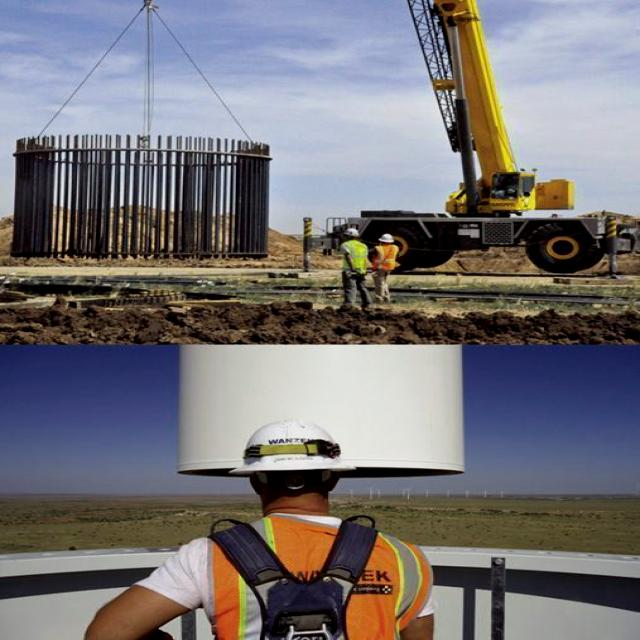head_helmet: (220, 420, 361, 476), (343, 227, 361, 237), (379, 233, 396, 242)
person: (89, 418, 454, 638), (338, 225, 371, 310), (372, 232, 399, 303)
vest: (212, 518, 415, 640), (341, 240, 370, 270), (372, 245, 404, 269)
